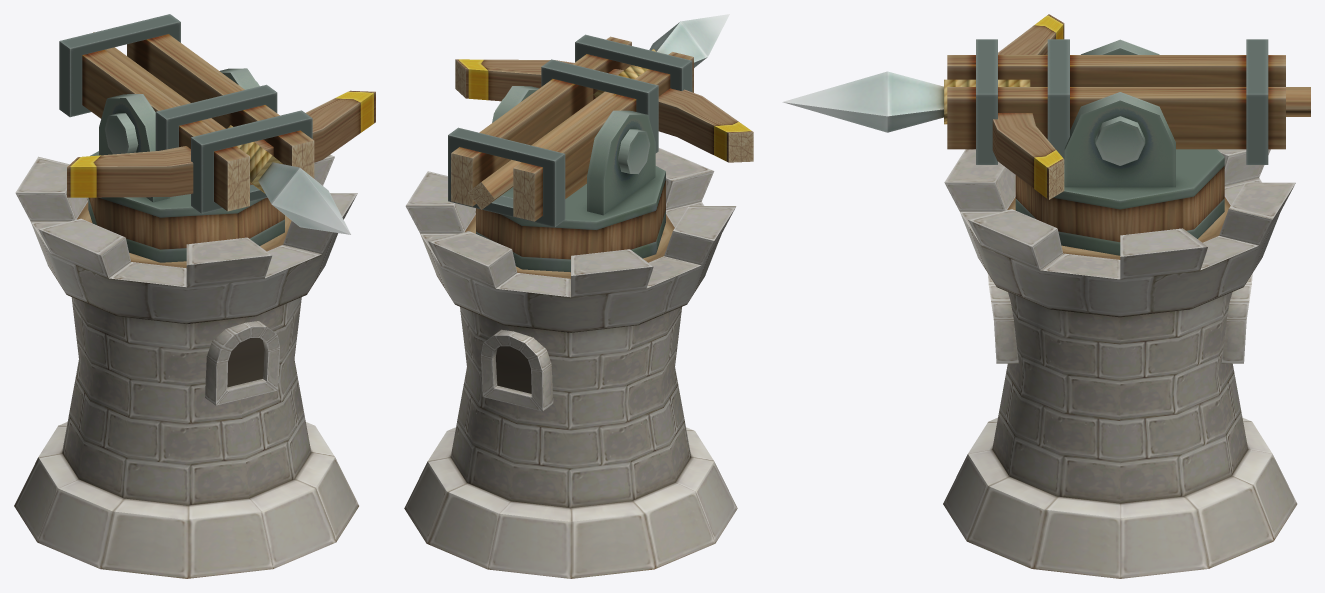
Rendered from Tower02.FBX.
The picture shows the model from 3 angles, left to right: view 1: azimuth 30°, elevation 25°; view 2: azimuth 150°, elevation 25°; view 3: azimuth 270°, elevation 25°; orthographic projection. The views are drawn at different scales.
Visible parts, largest first — view 1: Tower, Ballista, BallistaBar, BallistaArrow; view 2: Tower, Ballista, BallistaBar, BallistaArrow; view 3: Tower, Ballista, BallistaBar, BallistaArrow.
Part boxes in pixels (bbox=[...]): Tower: bbox=[14, 154, 358, 578]; Ballista: bbox=[59, 14, 375, 213]; BallistaBar: bbox=[88, 68, 284, 262]; BallistaArrow: bbox=[93, 32, 350, 234]; Tower: bbox=[404, 148, 737, 578]; Ballista: bbox=[448, 34, 753, 227]; BallistaBar: bbox=[476, 86, 665, 272]; BallistaArrow: bbox=[468, 14, 729, 209]; Tower: bbox=[943, 149, 1297, 578]; Ballista: bbox=[947, 14, 1285, 199]; BallistaBar: bbox=[1015, 39, 1224, 255]; BallistaArrow: bbox=[782, 71, 1310, 132].
Bounding box in the file's own units: 279 × 367 × 403.
